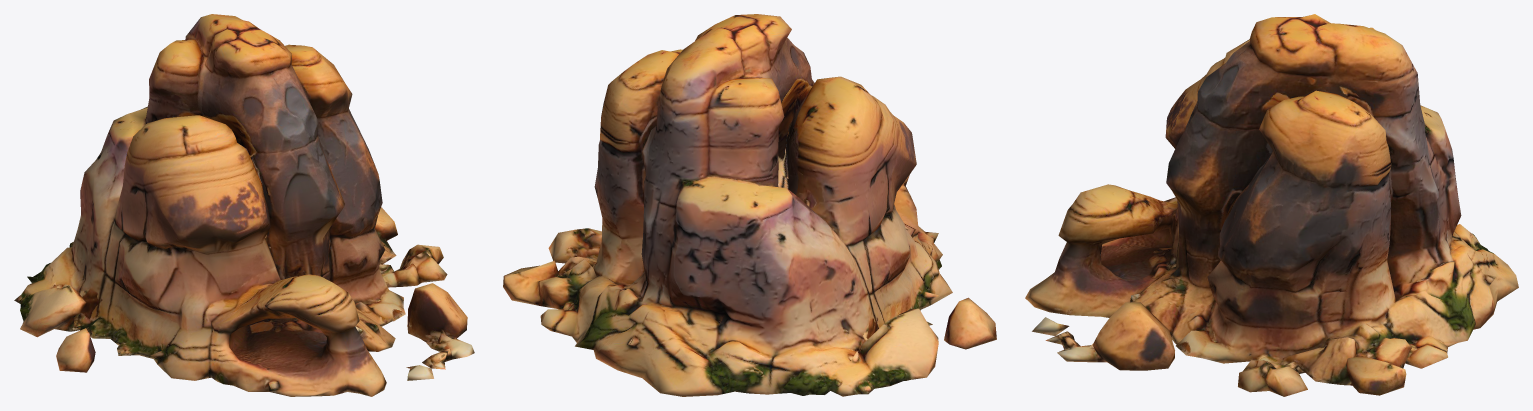
File: Desert_Monument_1120193046_texture.fbx
3 renders of one model, left to right at view 1: azimuth 30°, elevation 25°; view 2: azimuth 150°, elevation 25°; view 3: azimuth 270°, elevation 25°, orthographic. The views are drawn at different scales.
Visible parts, largest first — view 1: Mesh1.0; view 2: Mesh1.0; view 3: Mesh1.0.
Boxes of the visible parts, x1,y1,x2,y2 form: Mesh1.0: [14, 14, 474, 396]; Mesh1.0: [503, 14, 996, 396]; Mesh1.0: [1025, 14, 1518, 396].
Size of the model in its own units: 190 by 121 by 192.
1 material, 1 textured.
